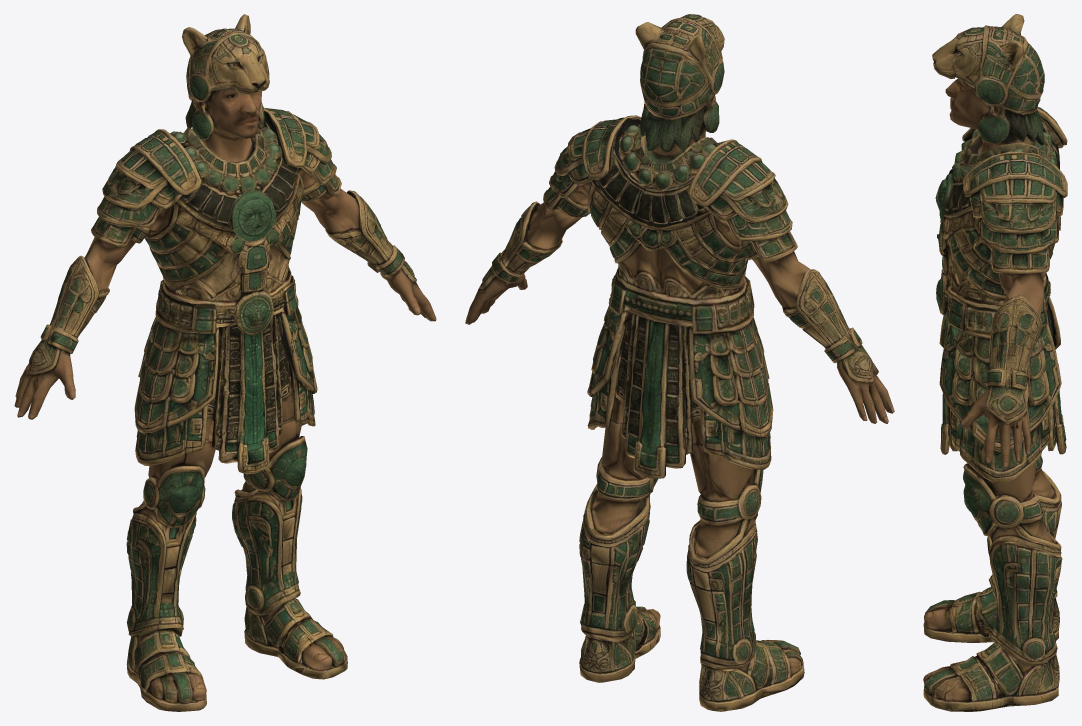
File: puma-king.glb
3 views of the same model, side by side, from view 1: azimuth 30°, elevation 25°; view 2: azimuth 150°, elevation 25°; view 3: azimuth 270°, elevation 25° (orthographic). The views are drawn at different scales.
Size of the model in its own units: 1.28 by 1.9 by 0.3896.
1 material, 1 textured.
